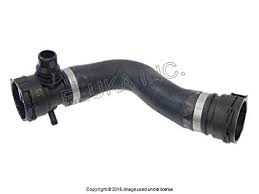radiator_hose: (17, 60, 244, 144)
